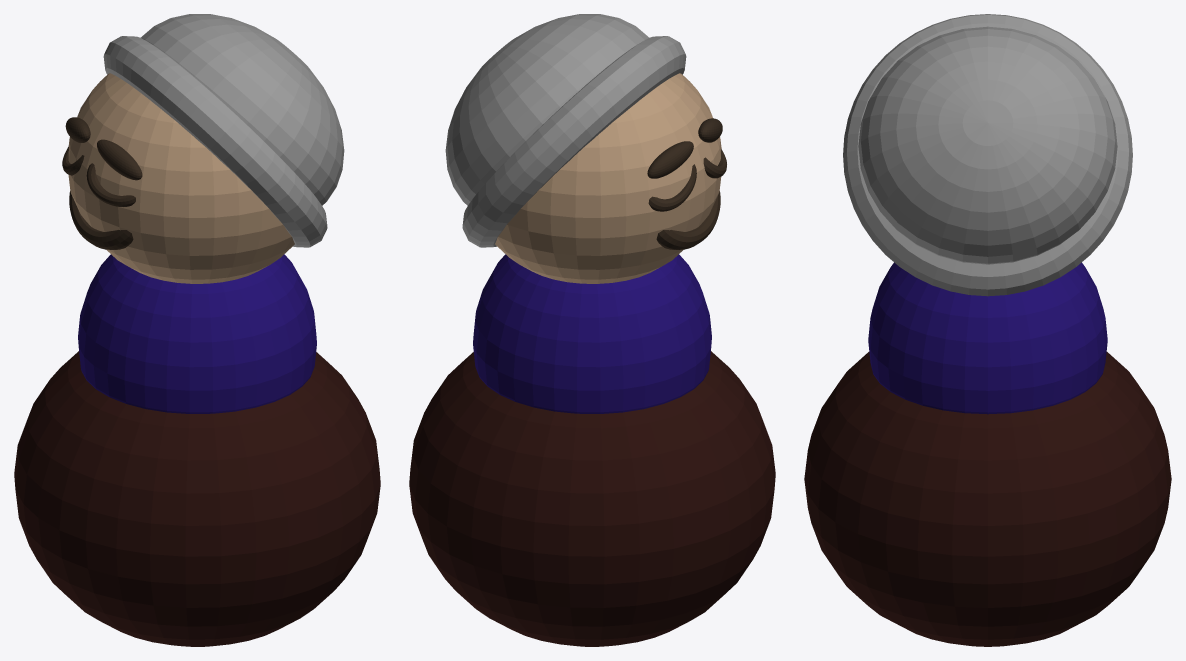
File: human.fbx
3 renders of one model, left to right at view 1: azimuth 30°, elevation 25°; view 2: azimuth 150°, elevation 25°; view 3: azimuth 270°, elevation 25°, orthographic.
Parts seen in each view (by area): view 1: Sphere, Sphere.001, Sphere.002, Sphere.003, Torus, Torus.002, Sphere.005, Torus.001; view 2: Sphere, Sphere.001, Sphere.002, Sphere.003, Torus, Torus.002, Sphere.004, Torus.003; view 3: Sphere, Sphere.003, Sphere.001, Torus.
Boxes of the visible parts, left/top/right/bottom form: Sphere: left=14, top=351, right=380, bottom=646; Sphere.001: left=78, top=254, right=316, bottom=413; Sphere.002: left=68, top=73, right=294, bottom=283; Sphere.003: left=140, top=14, right=344, bottom=205; Torus: left=103, top=36, right=327, bottom=247; Torus.002: left=69, top=191, right=133, bottom=249; Sphere.005: left=97, top=139, right=142, bottom=180; Torus.001: left=86, top=163, right=135, bottom=206; Sphere: left=409, top=351, right=775, bottom=646; Sphere.001: left=473, top=254, right=711, bottom=413; Sphere.002: left=495, top=73, right=721, bottom=283; Sphere.003: left=445, top=14, right=649, bottom=205; Torus: left=462, top=36, right=686, bottom=247; Torus.002: left=656, top=191, right=720, bottom=249; Sphere.004: left=647, top=141, right=693, bottom=178; Torus.003: left=648, top=164, right=696, bottom=211; Sphere: left=804, top=352, right=1171, bottom=646; Sphere.003: left=858, top=26, right=1117, bottom=264; Sphere.001: left=868, top=262, right=1107, bottom=414; Torus: left=843, top=14, right=1132, bottom=296.
Size of what is drawn, in the model's own units: 707 by 1272 by 707.
